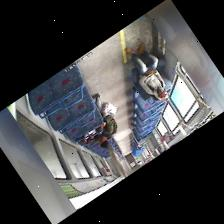person: (125, 44, 167, 99), (89, 93, 115, 148)
